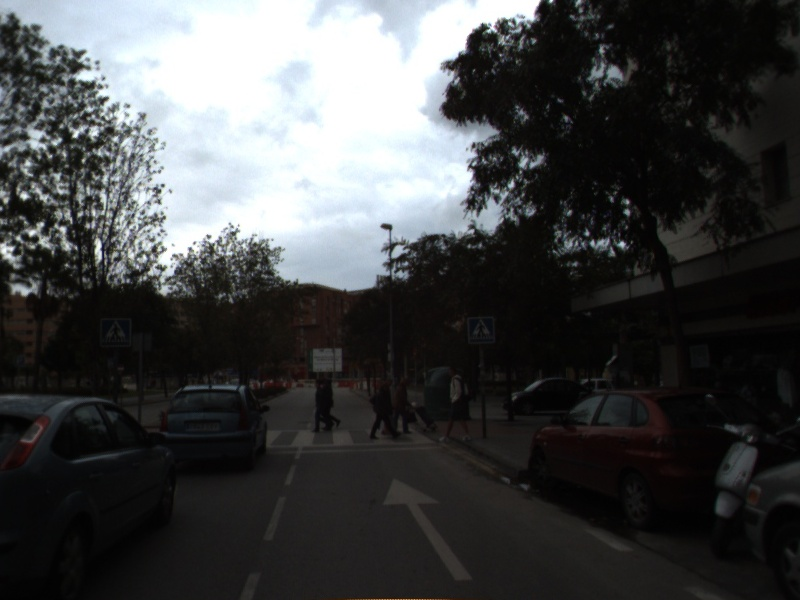STRAIGHT: (380, 476, 475, 582)
